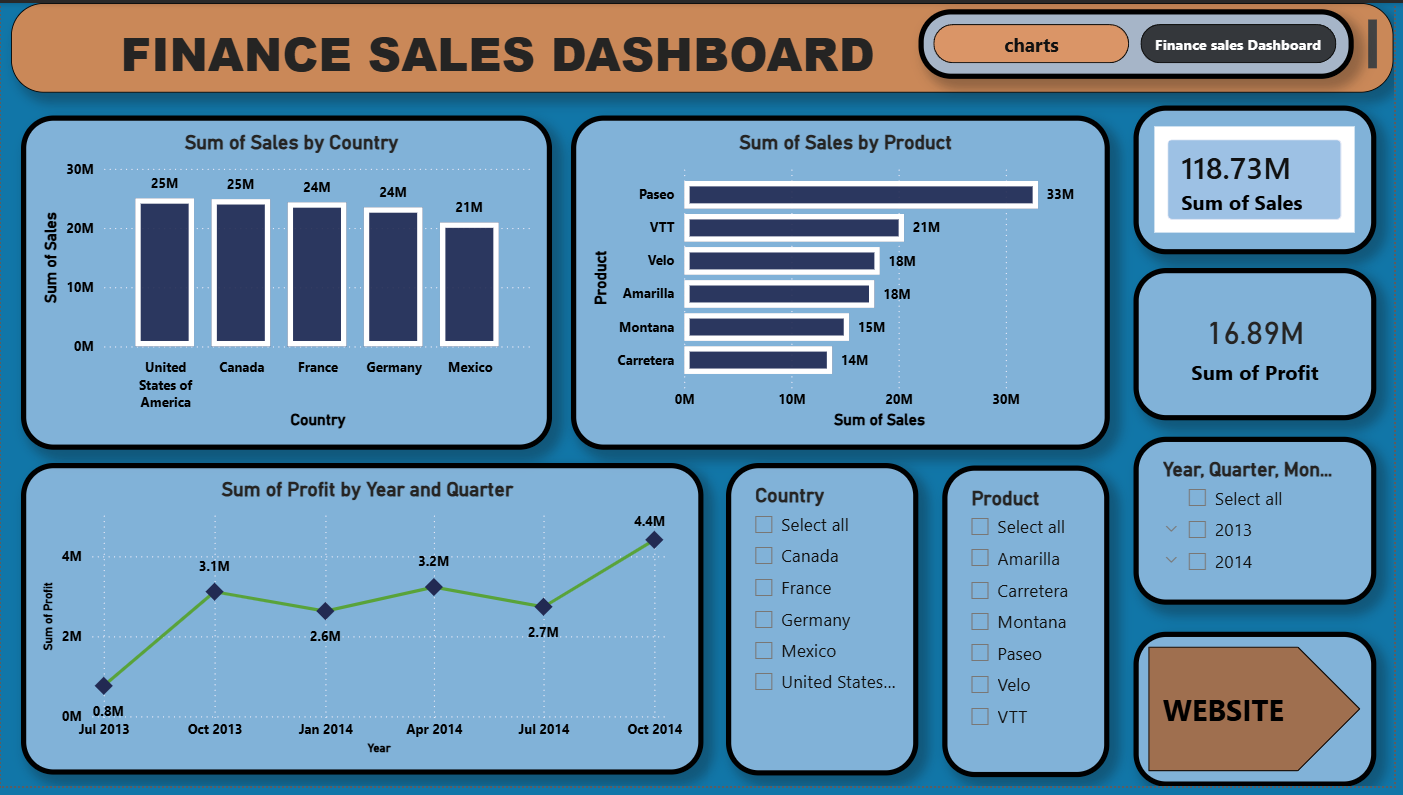

What the dashboard file says about the page in this screenshot:
{"tool":"powerbi","page":{"name":" Finance sales Dashboard","canvas":[1280,720],"ordinal":9},"visuals":[{"type":"textbox","box":[9.2,0,1270.5,82.7],"z":0},{"type":"clusteredColumnChart","fields":{"Category":["Finances.Country"],"Y":["Sum(Finances. Sales)"]},"box":[18,103.1,487.8,306.8],"z":1000},{"type":"clusteredBarChart","fields":{"Category":["Finances.Product"],"Y":["Sum(Finances. Sales)"]},"box":[523.7,103.1,495,306.8],"z":2000},{"type":"lineChart","fields":{"Category":["Finances.Date.Variation.Date Hierarchy.Year","Finances.Date.Variation.Date Hierarchy.Quarter"],"Y":["Sum(Finances.Profit)"]},"box":[18,423.1,626.8,286.4],"z":3000},{"type":"cardVisual","fields":{"Data":["Sum(Finances. Sales)"]},"box":[1040.3,94.7,222.9,136.6],"z":4000},{"type":"card","fields":{"Values":["Sum(Finances.Profit)"]},"box":[1040.3,243.3,222.9,140.2],"z":5000},{"type":"slicer","fields":{"Values":["Finances.Country"]},"box":[666.2,422.7,176.9,287.2],"z":6000},{"type":"pageNavigator","box":[843.1,5.7,399.7,64.3],"z":7000},{"type":"slicer","fields":{"Values":["Finances.Product"]},"box":[865,425,153.9,286],"z":8000},{"type":"shape","box":[1040.3,577.7,222.9,142.6],"z":9000},{"type":"slicer","fields":{"Values":["Finances.Date.Variation.Date Hierarchy.Year","Finances.Date.Variation.Date Hierarchy.Quarter","Finances.Date.Variation.Date Hierarchy.Month","Finances.Date.Variation.Date Hierarchy.Day"]},"box":[1040.3,399.1,222.9,154.6],"z":10000}]}

Visuals, with their boxes in screenshot pixels (x1, y1, x2, y2), scaled from the page's 1280x720 canvas onto the 1403x795 screenshot:
textbox: rect(10, 0, 1402, 91)
clusteredColumnChart - Finances.Country x Sum(Finances. Sales): rect(20, 114, 554, 453)
clusteredBarChart - Finances.Product x Sum(Finances. Sales): rect(574, 114, 1117, 453)
lineChart - Finances.Date.Variation.Date Hierarchy.Year x Finances.Date.Variation.Date Hierarchy.Quarter: rect(20, 467, 707, 783)
cardVisual - Sum(Finances. Sales): rect(1140, 105, 1385, 255)
card - Sum(Finances.Profit): rect(1140, 269, 1385, 423)
slicer - Finances.Country: rect(730, 467, 924, 784)
pageNavigator: rect(924, 6, 1362, 77)
slicer - Finances.Product: rect(948, 469, 1117, 785)
shape: rect(1140, 638, 1385, 794)
slicer - Finances.Date.Variation.Date Hierarchy.Year x Finances.Date.Variation.Date Hierarchy.Quarter: rect(1140, 441, 1385, 611)
